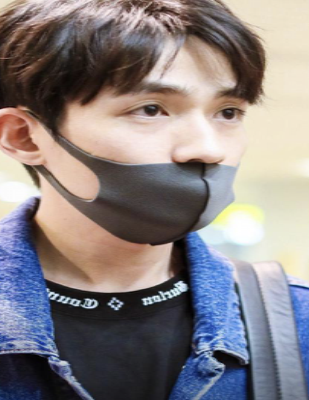mask_weared_incorrect: (66, 80, 252, 247)
